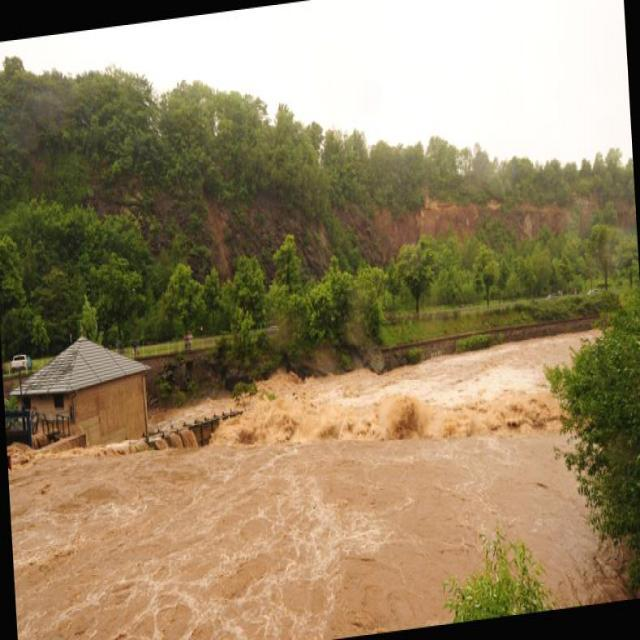flood: (4, 336, 604, 639)
